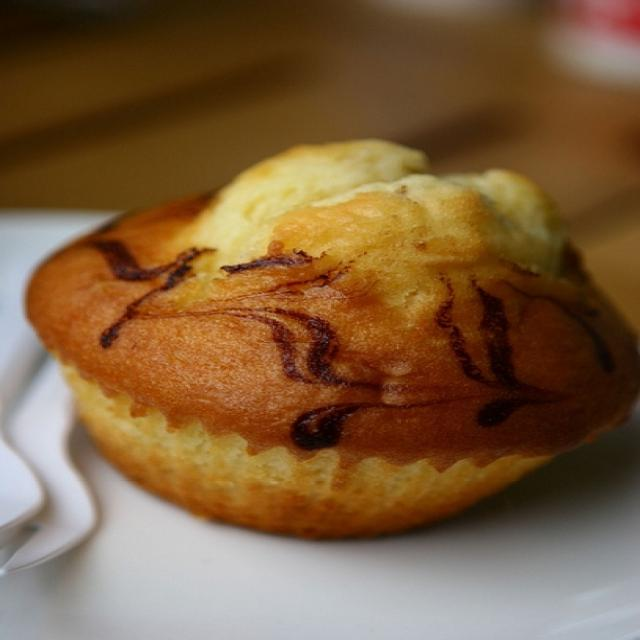炸货点心: (16, 103, 635, 568)
面包点心: (16, 103, 635, 568)
